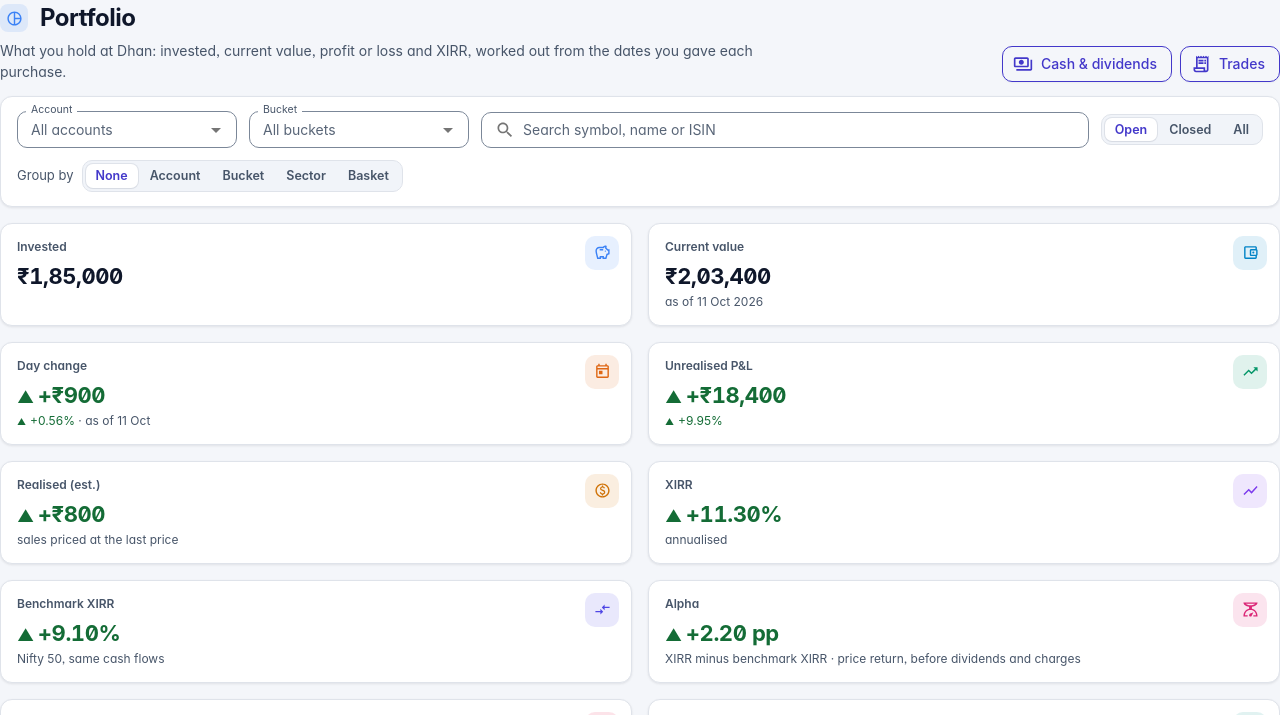
Test case: Trades panel › opens from the Trades button on the Portfolio screen and keeps its tab in the URL
The width and height of the screenshot is (1280, 715).
Click the button "Trades".
click(1230, 64)  # box [1180, 46, 1279, 82]
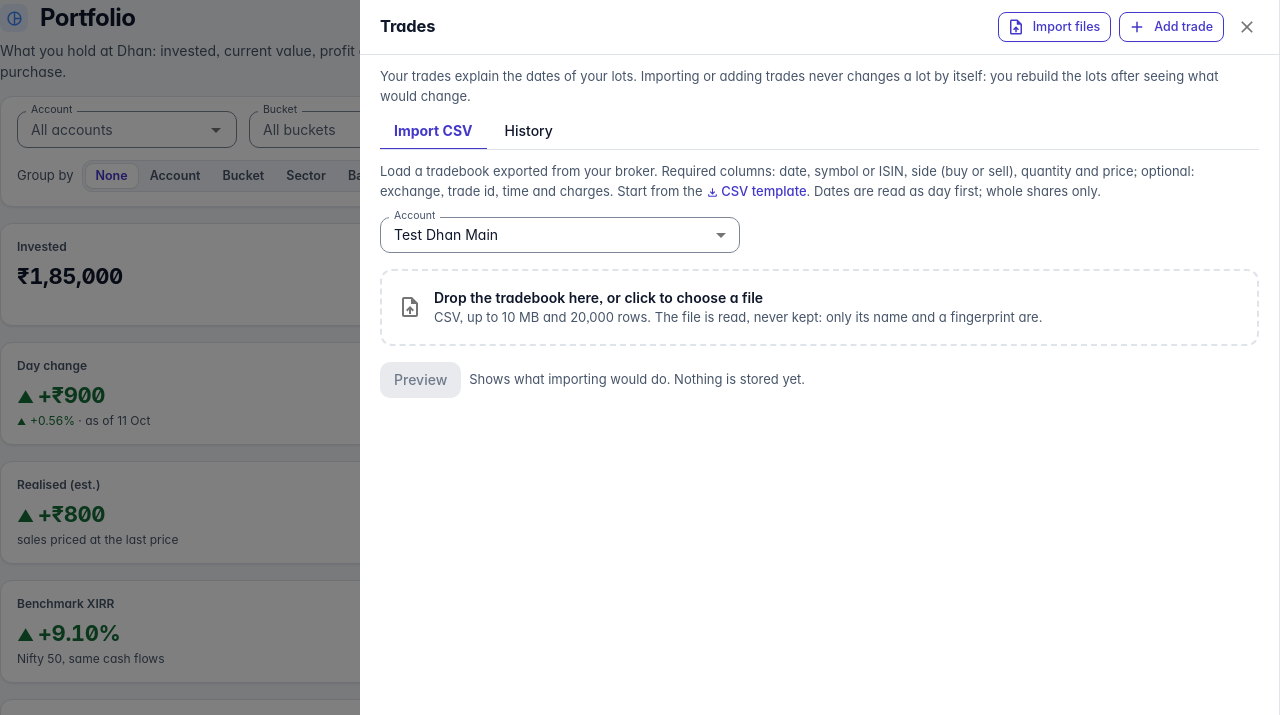
Expected: the heading "Trades" is shown, [380, 16, 435, 36]
Expected: the tab "Import CSV" is shown, [380, 114, 486, 150]
Expected: the tab "History" is shown, [490, 114, 567, 150]
